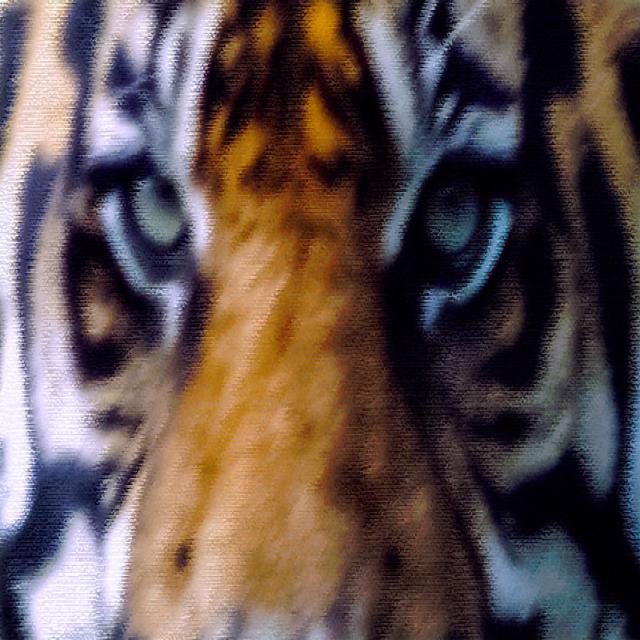Tiger: (1, 3, 638, 631)
